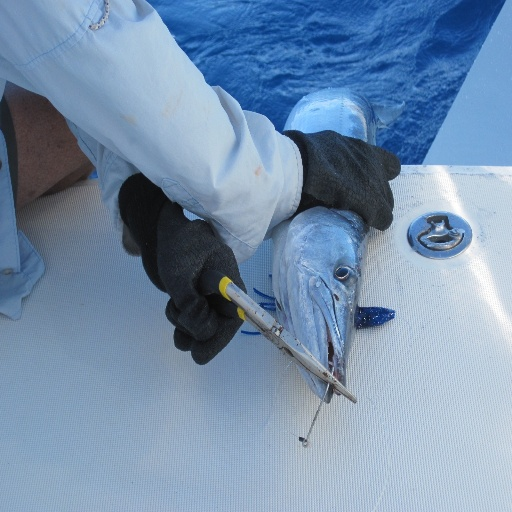hand: (140, 202, 249, 366), (305, 128, 400, 231)
